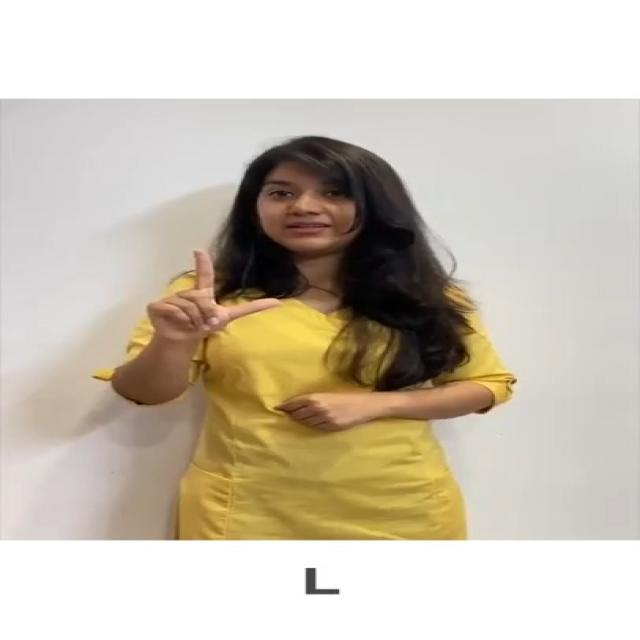L: (127, 236, 296, 367)
